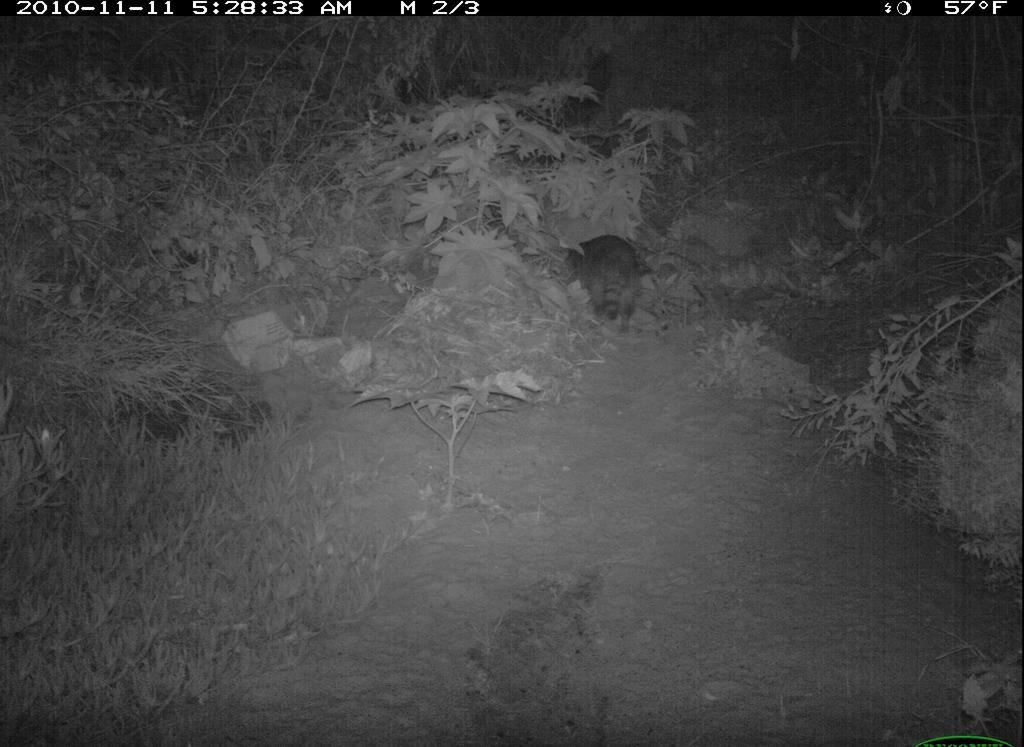raccoon: (562, 230, 649, 342)
